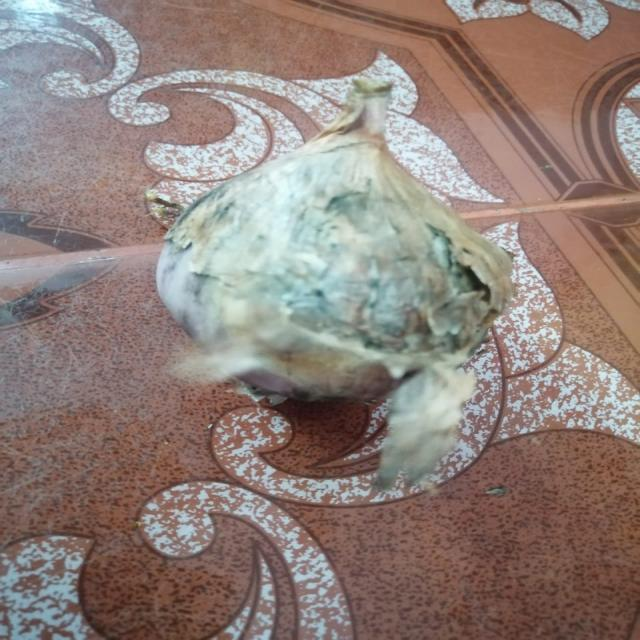rotten: (282, 218, 469, 352)
